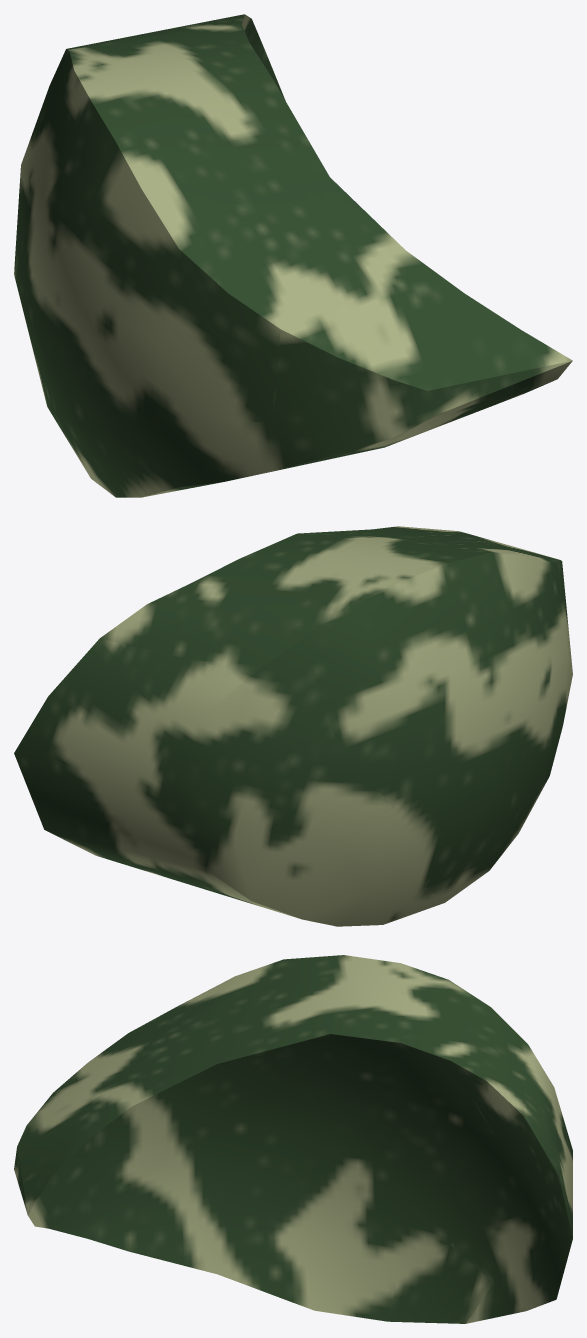
The model's file is link_body_24.obj.
3 renders of one model, top to bottom at view 1: azimuth 30°, elevation 25°; view 2: azimuth 150°, elevation 25°; view 3: azimuth 270°, elevation 25°, orthographic. The views are drawn at different scales.
Visible parts, largest first — view 1: link_body_24; view 2: link_body_24; view 3: link_body_24.
Boxes of the visible parts, box(x1,y1,x2,y2) form: link_body_24: box(14, 14, 572, 497); link_body_24: box(14, 526, 572, 926); link_body_24: box(14, 955, 572, 1323).
Bounding box in the file's own units: 8.29 × 7.62 × 12.72.
